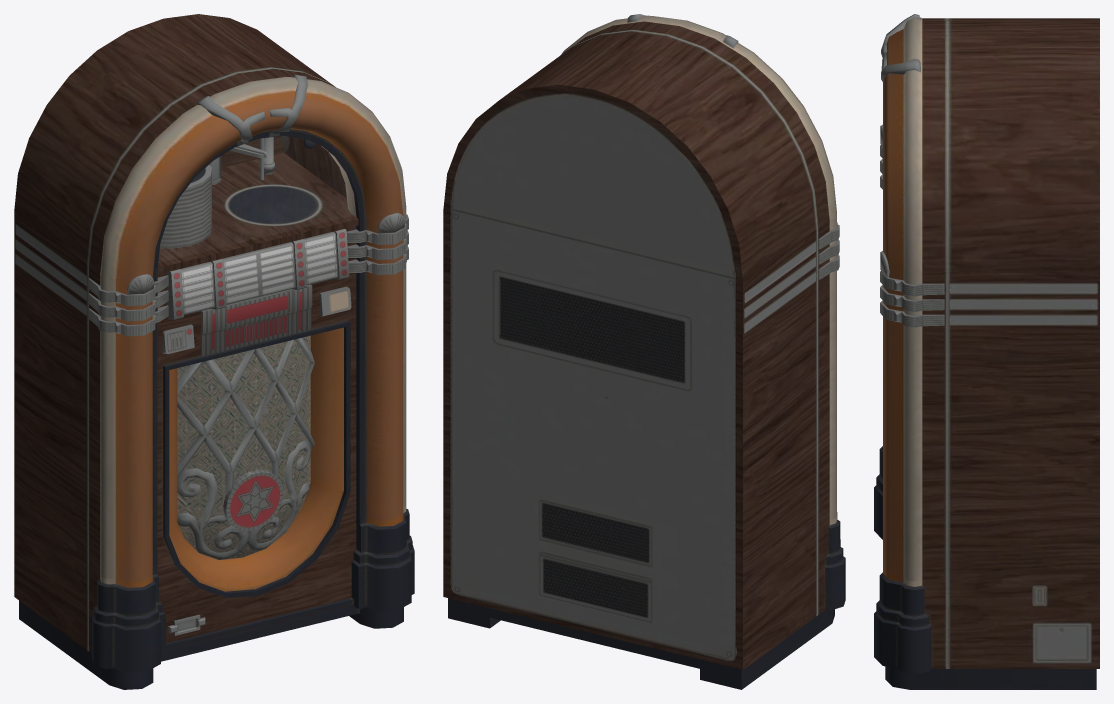
File: jukebox.glb
3 renders of one model, left to right at view 1: azimuth 30°, elevation 25°; view 2: azimuth 150°, elevation 25°; view 3: azimuth 270°, elevation 25°, orthographic. The views are drawn at different scales.
Parts seen in each view (by area): view 1: Jukebox_UV_Jukebox_0; view 2: Jukebox_UV_Jukebox_0; view 3: Jukebox_UV_Jukebox_0.
Part boxes in pixels (x1=…): Jukebox_UV_Jukebox_0: x1=14, y1=14, x2=414, y2=689; Jukebox_UV_Jukebox_0: x1=443, y1=14, x2=845, y2=689; Jukebox_UV_Jukebox_0: x1=874, y1=14, x2=1099, y2=689.
Size of the model in its own units: 0.9135 by 1.55 by 0.5436.
2 materials, 2 textured.
